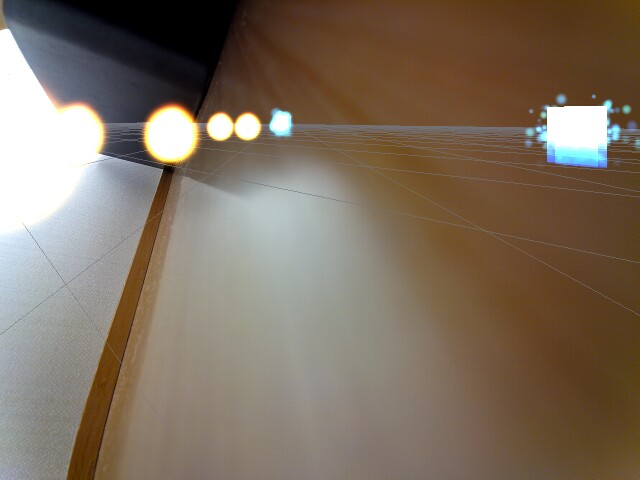firebig: (2, 61, 66, 237)
